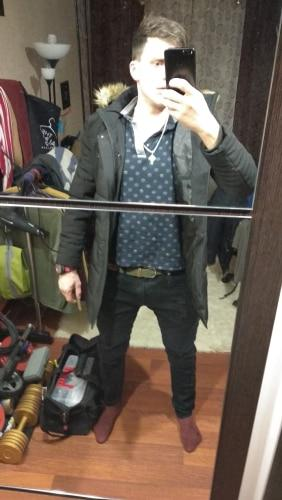jeans: (88, 265, 203, 423)
